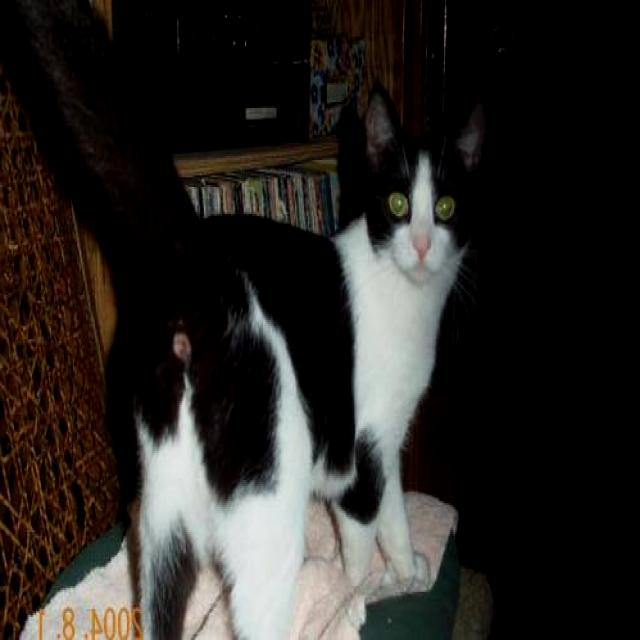Kucing: (26, 79, 520, 594)
